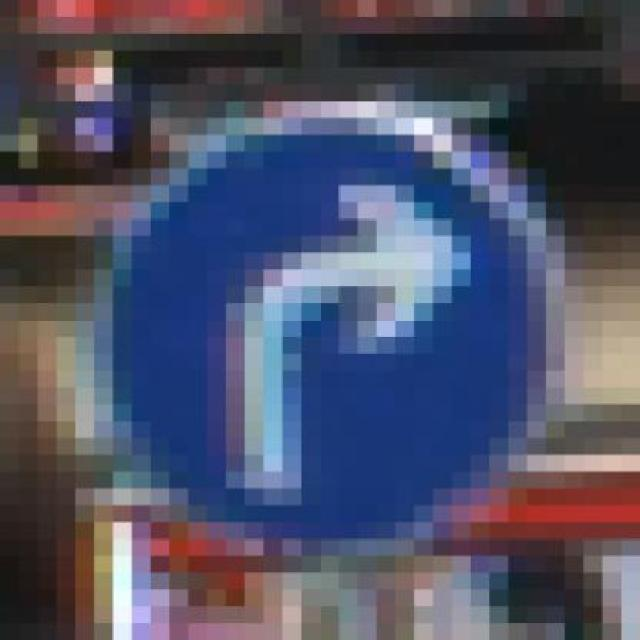Turn right ahead: (94, 84, 546, 590)
